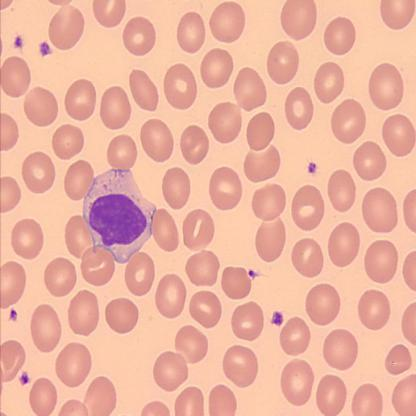Atypical lymphocyte: (82, 169, 158, 262)
